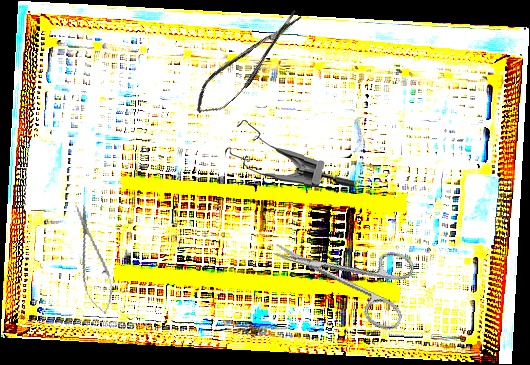Iris Scissors: (261, 210, 424, 335)
Micro Scissor: (185, 4, 313, 123), (66, 200, 119, 318)
Speculum: (223, 119, 357, 189)
